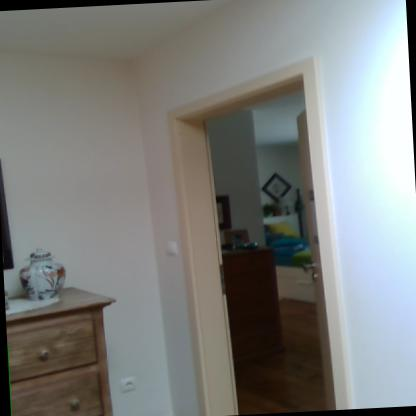semi: (150, 65, 357, 411)
